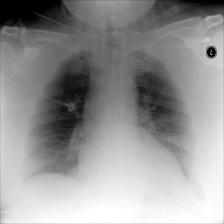normal: (21, 47, 199, 189)
